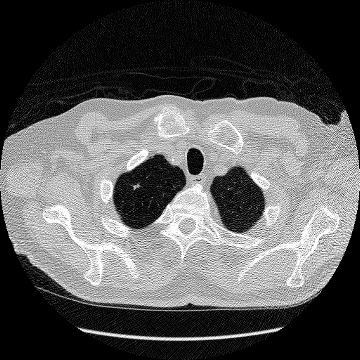nodule: (133, 184, 139, 190)
